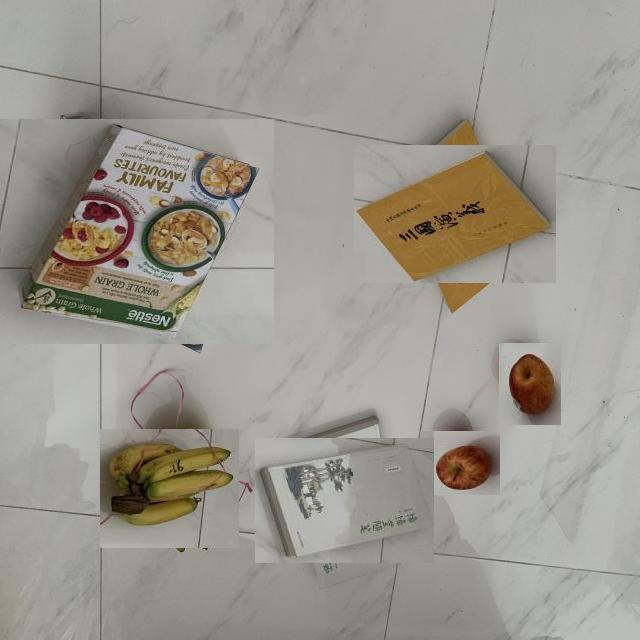Apple: (498, 343, 561, 425), (419, 432, 500, 495)
Banana: (100, 429, 239, 548)
Book: (353, 146, 556, 283), (255, 438, 434, 563)
Cerealbox: (0, 118, 274, 344)
